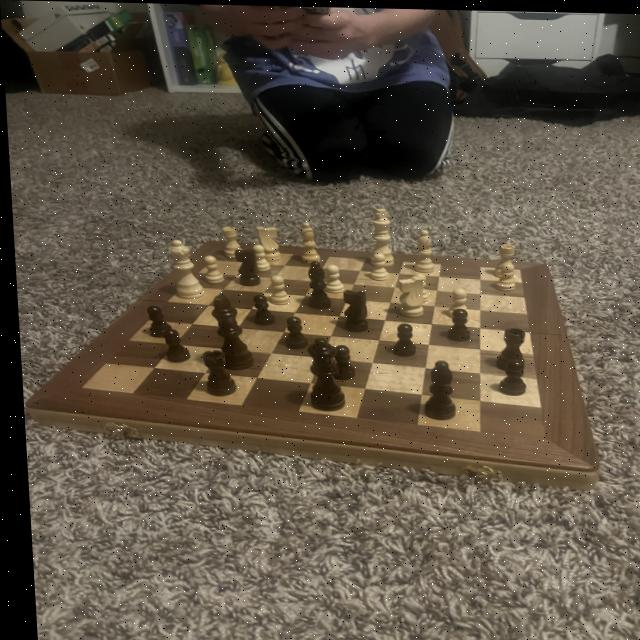bishop: (408, 352, 463, 425), (295, 248, 329, 309)
black-bishop: (201, 285, 255, 376)
black-king: (331, 283, 370, 336), (225, 241, 259, 289)
black-knight: (148, 323, 190, 365), (494, 354, 534, 398), (129, 298, 170, 339), (272, 309, 306, 352), (237, 287, 274, 326), (383, 318, 418, 359), (440, 303, 474, 345), (324, 339, 355, 383)
black-pawn: (294, 333, 345, 420)
black-queen: (185, 344, 235, 401), (484, 321, 532, 376)
black-rook: (402, 219, 436, 274), (288, 212, 321, 264)
white-bishop: (357, 193, 400, 265)
white-king: (386, 270, 424, 323), (250, 218, 281, 261)
white-knight: (439, 279, 475, 317), (490, 257, 521, 293), (258, 268, 288, 305), (314, 259, 342, 294), (404, 266, 431, 301), (362, 247, 389, 282), (197, 249, 223, 284), (246, 237, 269, 272)
white-pawn: (158, 226, 206, 302)
white-queen: (483, 234, 521, 277), (211, 219, 246, 258)
